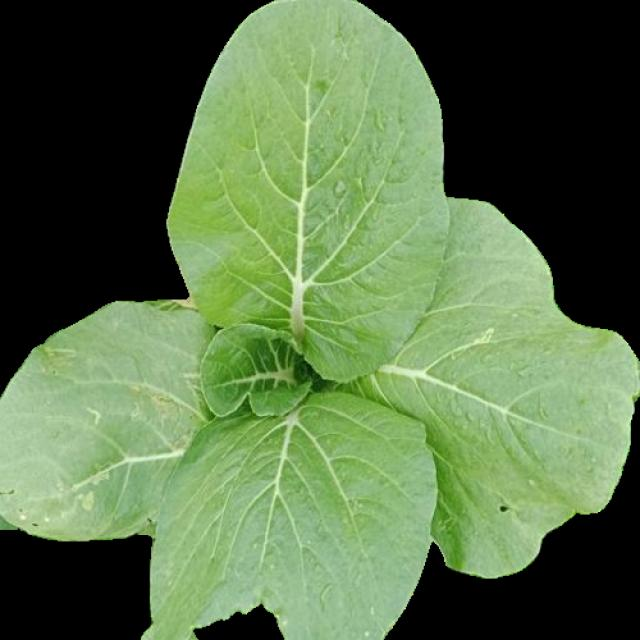mature: (1, 1, 640, 640)
unhealthy: (348, 196, 638, 576), (155, 390, 436, 640), (1, 302, 220, 538)
